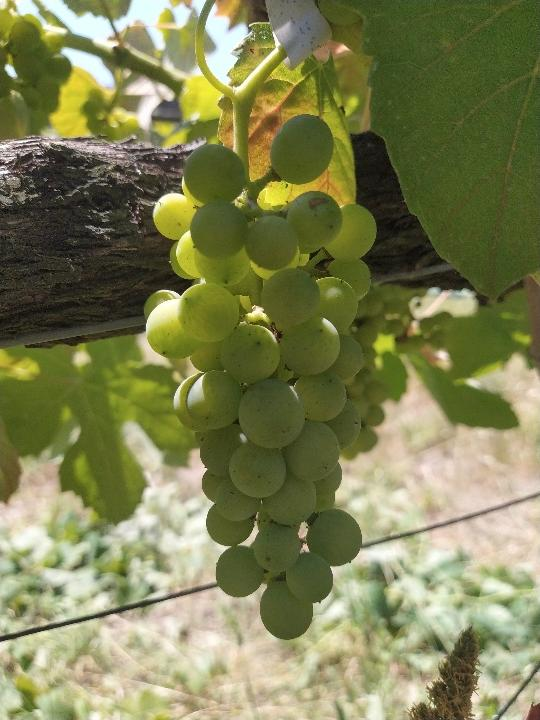grape: (140, 114, 377, 642)
